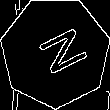N_SW: (24, 23, 86, 81)
